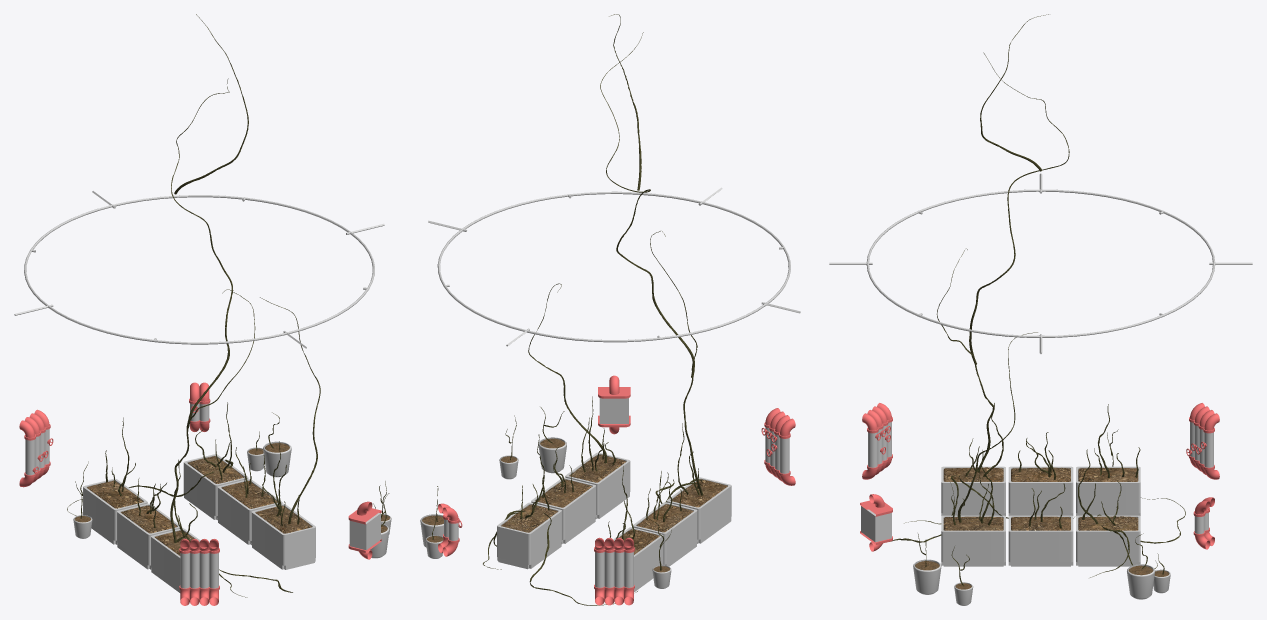
The model's file is room-05.fbx.
The picture shows the model from 3 angles, left to right: view 1: azimuth 30°, elevation 25°; view 2: azimuth 150°, elevation 25°; view 3: azimuth 270°, elevation 25°; orthographic projection.
Parts seen in each view (by area): view 1: planter_boxes, dirt_planters, stems, sprinklers, clue_pipes_01, pots, clue_pipes_02, button_box, clue_pipes_03; view 2: planter_boxes, dirt_planters, stems, sprinklers, clue_pipes_02, pots, clue_pipes_01, button_box, clue_pipes_03, roots; view 3: planter_boxes, dirt_planters, stems, sprinklers, pots, clue_pipes_02, clue_pipes_01, button_box, clue_pipes_03, roots.
Part boxes in pixels (x1,y1,x2,y2): planter_boxes: (83, 454, 315, 592); dirt_planters: (87, 456, 311, 555); stems: (105, 14, 320, 543); sprinklers: (14, 191, 384, 348); clue_pipes_01: (179, 539, 219, 605); pots: (73, 441, 391, 558); clue_pipes_02: (19, 409, 53, 487); button_box: (348, 501, 381, 559); clue_pipes_03: (189, 382, 210, 431); planter_boxes: (497, 452, 731, 592); dirt_planters: (501, 454, 727, 554); stems: (520, 14, 703, 539); sprinklers: (428, 187, 800, 346); clue_pipes_02: (594, 537, 634, 605); pots: (420, 437, 671, 588); clue_pipes_01: (761, 408, 795, 485); button_box: (598, 375, 630, 434); clue_pipes_03: (438, 503, 462, 556); roots: (483, 478, 702, 605); planter_boxes: (941, 466, 1140, 566); dirt_planters: (943, 467, 1138, 530); stems: (936, 14, 1140, 528); sprinklers: (829, 173, 1252, 353); pots: (913, 559, 1170, 605); clue_pipes_02: (1186, 403, 1219, 479); clue_pipes_01: (862, 403, 892, 479); button_box: (860, 494, 892, 551); clue_pipes_03: (1193, 497, 1214, 549); roots: (890, 475, 1185, 577).
Size of the model in its own units: 11 by 14.93 by 11.
4 materials, 1 textured.
